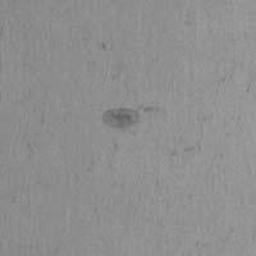Oil spot: (101, 102, 169, 137)
